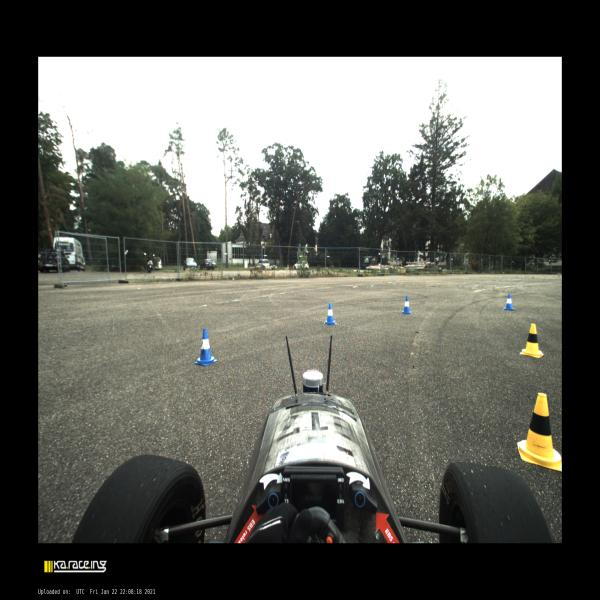blue_cone: (194, 328, 218, 366), (324, 303, 338, 325), (503, 294, 515, 310), (402, 296, 412, 315)
yellow_cone: (518, 393, 562, 472), (520, 324, 544, 358)
